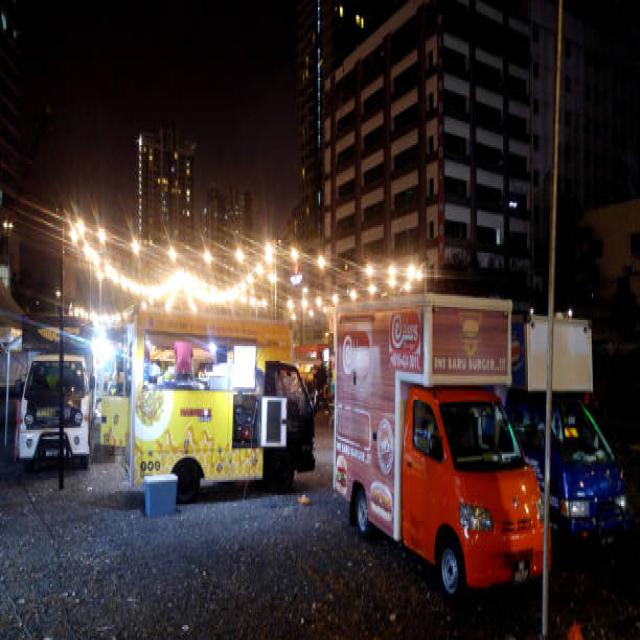Emperan: (92, 294, 322, 530)
